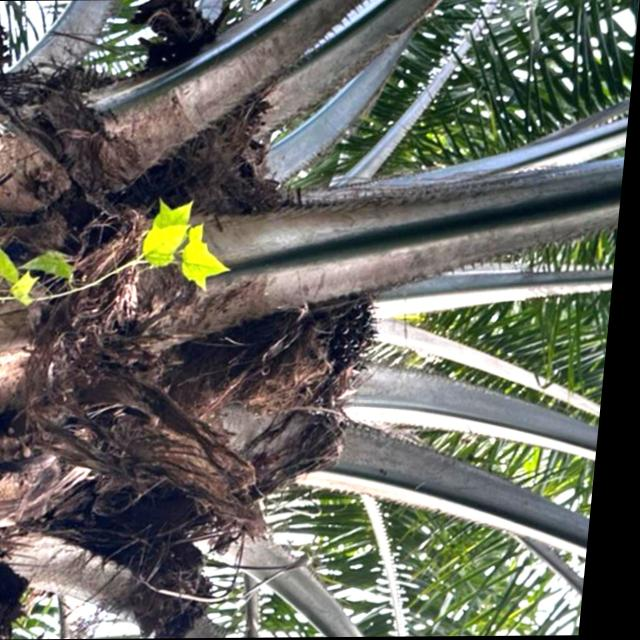unripe: (219, 275, 408, 446)
